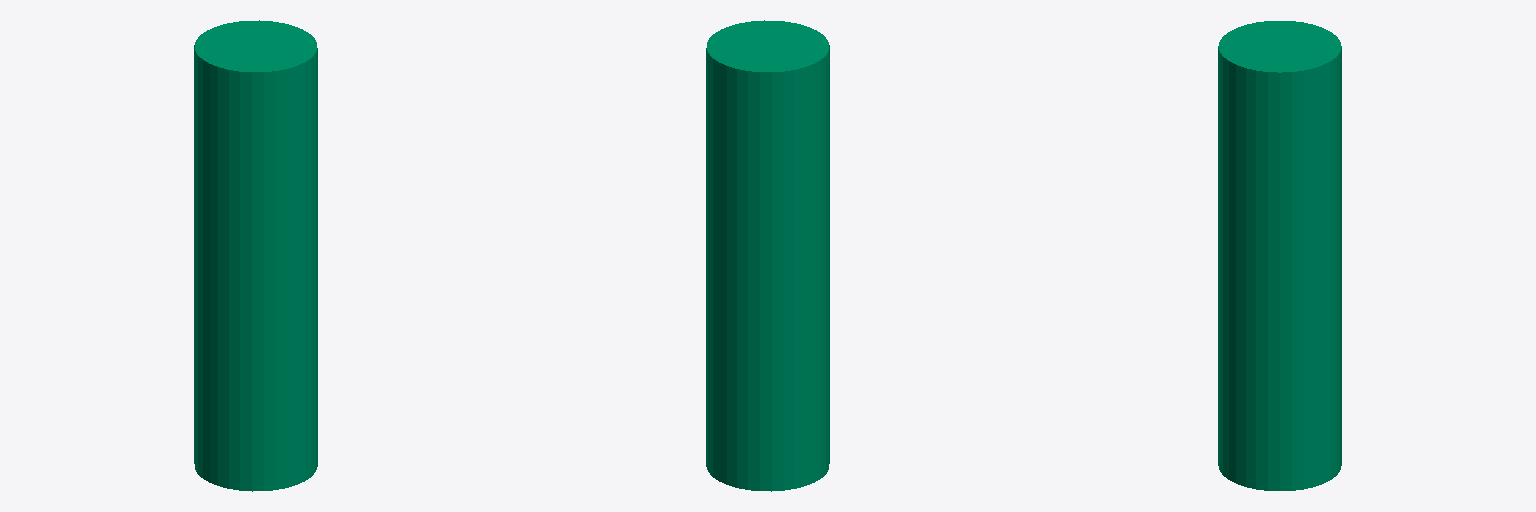
robot.urdf — stand:
<robot name="stand">

    <link name="world"/>
    <link name="origin_link"/>
    <joint
        name="world_joint"
        static="true"
        type="fixed"
    >

      <parent link="world"/>
      <child link="origin_link"/>

    </joint>
    <link name="stand_link">

        <inertial>

            <mass value="4"/>
            <inertia
                ixx="0.031296"
                ixy="0"
                ixz="0"
                iyy="0.031296"
                iyz="0"
                izz="0.002592"
            />

        </inertial>
        <visual>

            <geometry>

                <cylinder
                    radius="0.040"
                    length="0.3"
                />

            </geometry>

        </visual>
        <collision>

            <geometry>

                <cylinder
                    radius="0.040"
                    length="0.3"
                />

            </geometry>

        </collision>

    </link>
    <joint
        name="origin_joint"
        type="fixed"
    >

        <origin xyz="0 0 0"/>
        <parent link="origin_link"/>
        <child link="stand_link"/>
        <axis xyz="0 0 1"/>

    </joint>

</robot>

--- Facts derived from the render (not from the file) ---
3 views of the same robot in one strip: view 1: azimuth 30°, elevation 25°; view 2: azimuth 150°, elevation 25°; view 3: azimuth 270°, elevation 25° (orthographic).
Robot: stand — 3 links, 2 joints (2 fixed); root link world; default pose: every joint at zero.
Visible links, largest first — view 1: stand_link; view 2: stand_link; view 3: stand_link.
Link boxes in pixels (box(x1,y1,x2,y2)): stand_link: box(194, 20, 317, 491); stand_link: box(706, 20, 829, 491); stand_link: box(1218, 21, 1341, 490).
Size in the robot's own frame: 0.08 by 0.08 by 0.3 metres.
Geometry: primitives only (box / cylinder / sphere), no mesh files.